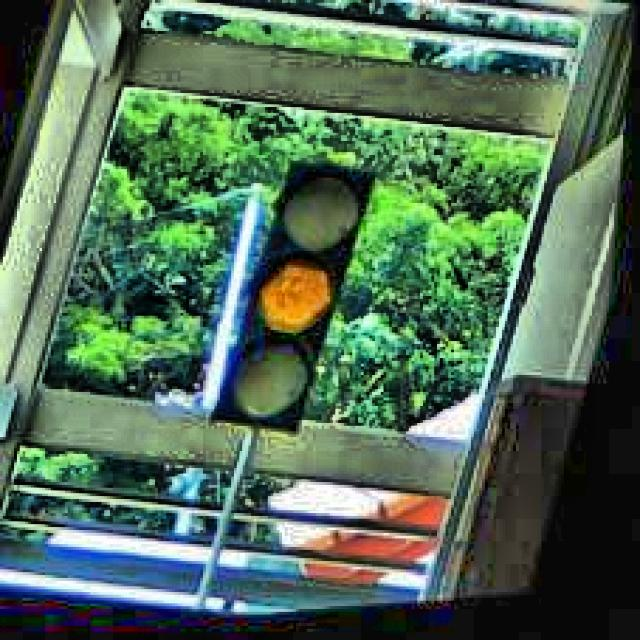yellow: (216, 156, 382, 442)
